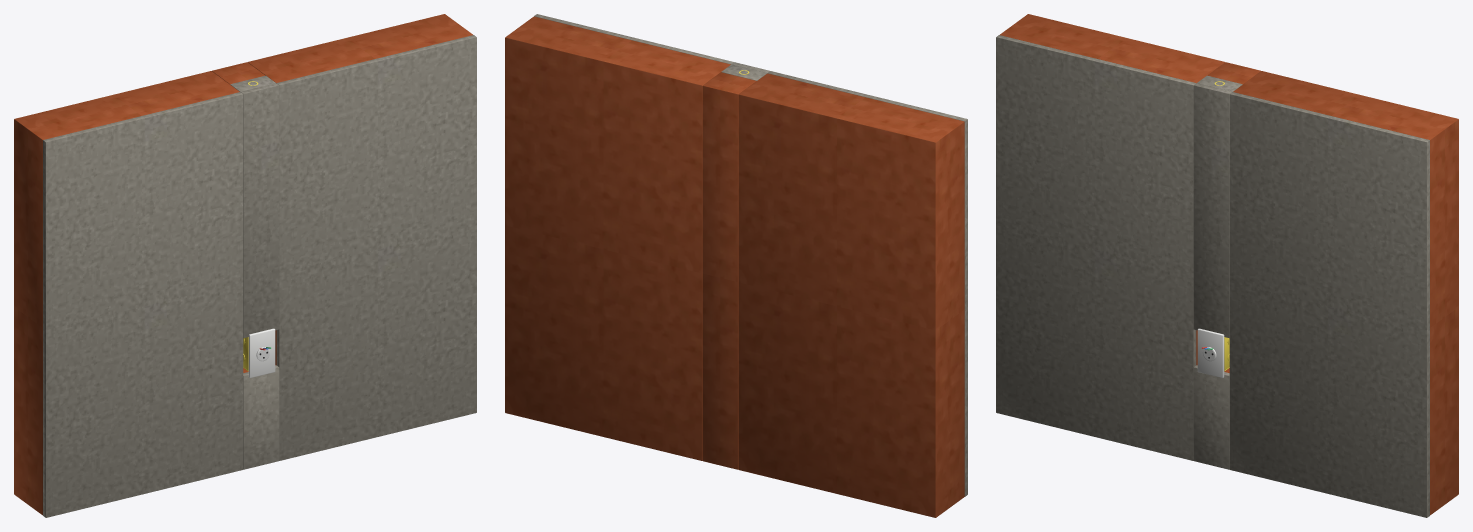
File: KIT-ELE-01_lod1.glb
3 renders of one model, left to right at view 1: azimuth 30°, elevation 25°; view 2: azimuth 150°, elevation 25°; view 3: azimuth 330°, elevation 25°, orthographic.
Parts seen in each view (by area): view 1: KIT-ELE-01_reboco_esq, KIT-ELE-01_reboco_dir, KIT-ELE-01_parede_esq, KIT-ELE-01_reboco_cima, KIT-ELE-01_parede_dir, KIT-ELE-01_reboco_baixo, KIT-ELE-01_p1, KIT-ELE-01_parede_fundo; view 2: KIT-ELE-01_parede_esq, KIT-ELE-01_parede_dir, KIT-ELE-01_parede_fundo, KIT-ELE-01_reboco_esq, KIT-ELE-01_reboco_dir; view 3: KIT-ELE-01_reboco_dir, KIT-ELE-01_reboco_esq, KIT-ELE-01_parede_dir, KIT-ELE-01_reboco_cima, KIT-ELE-01_parede_esq, KIT-ELE-01_reboco_baixo, KIT-ELE-01_p1, KIT-ELE-01_parede_fundo.
Part boxes in pixels (x1,y1,x2,y2): KIT-ELE-01_reboco_esq: (43, 92, 243, 517); KIT-ELE-01_reboco_dir: (276, 35, 476, 460); KIT-ELE-01_parede_esq: (14, 71, 239, 515); KIT-ELE-01_reboco_cima: (241, 83, 279, 337); KIT-ELE-01_parede_dir: (247, 14, 472, 365); KIT-ELE-01_reboco_baixo: (243, 365, 279, 469); KIT-ELE-01_p1: (248, 328, 275, 377); KIT-ELE-01_parede_fundo: (212, 62, 264, 84); KIT-ELE-01_parede_esq: (738, 73, 964, 517); KIT-ELE-01_parede_dir: (505, 16, 730, 460); KIT-ELE-01_parede_fundo: (702, 72, 756, 469); KIT-ELE-01_reboco_esq: (767, 71, 967, 496); KIT-ELE-01_reboco_dir: (534, 14, 733, 64); KIT-ELE-01_reboco_dir: (1229, 92, 1429, 517); KIT-ELE-01_reboco_esq: (996, 35, 1196, 460); KIT-ELE-01_parede_dir: (1233, 71, 1458, 515); KIT-ELE-01_reboco_cima: (1193, 83, 1231, 337); KIT-ELE-01_parede_esq: (1000, 14, 1225, 365); KIT-ELE-01_reboco_baixo: (1193, 365, 1229, 469); KIT-ELE-01_p1: (1197, 328, 1224, 377); KIT-ELE-01_parede_fundo: (1208, 62, 1260, 84).
Bounding box in the file's own units: 1.2 × 1 × 0.1866.
Materials: 10 (2 with a texture image).
